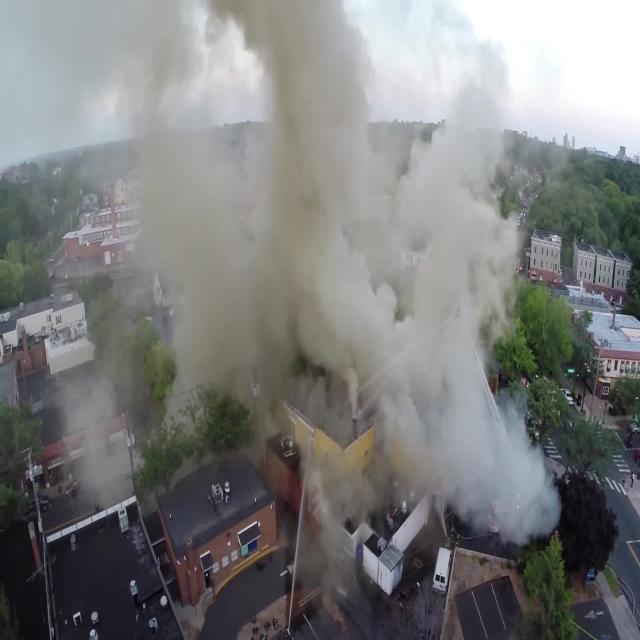Smoke: (29, 0, 566, 550)
